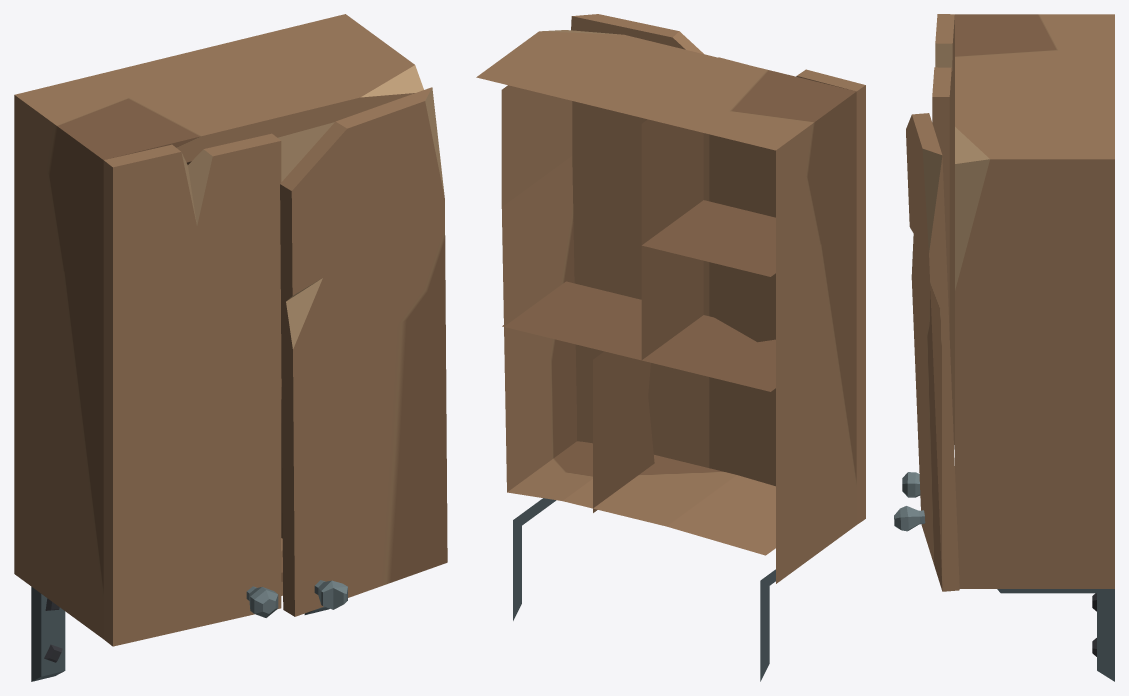
Rendered from SM_Shelf_02.gltf.
3 views of the same model, side by side, from view 1: azimuth 30°, elevation 25°; view 2: azimuth 150°, elevation 25°; view 3: azimuth 270°, elevation 25° (orthographic). The views are drawn at different scales.
Parts seen in each view (by area): view 1: SM_Shelf_Door_L, SM_Shelf_02, SM_Shelf_Door_R; view 2: SM_Shelf_02, SM_Shelf_Door_R, SM_Shelf_Door_L; view 3: SM_Shelf_02, SM_Shelf_Door_R, SM_Shelf_Door_L.
Boxes of the visible parts, bbox=[...] form: SM_Shelf_Door_L: bbox=[103, 133, 281, 646]; SM_Shelf_02: bbox=[14, 14, 423, 681]; SM_Shelf_Door_R: bbox=[280, 87, 447, 616]; SM_Shelf_02: bbox=[476, 30, 856, 681]; SM_Shelf_Door_R: bbox=[571, 14, 709, 467]; SM_Shelf_Door_L: bbox=[709, 57, 865, 524]; SM_Shelf_02: bbox=[955, 14, 1114, 681]; SM_Shelf_Door_R: bbox=[894, 113, 959, 591]; SM_Shelf_Door_L: bbox=[902, 14, 954, 497].
Bounding box in the file's own units: 0.5475 × 0.9165 × 0.3461.
Materials: 1 (1 with a texture image).
